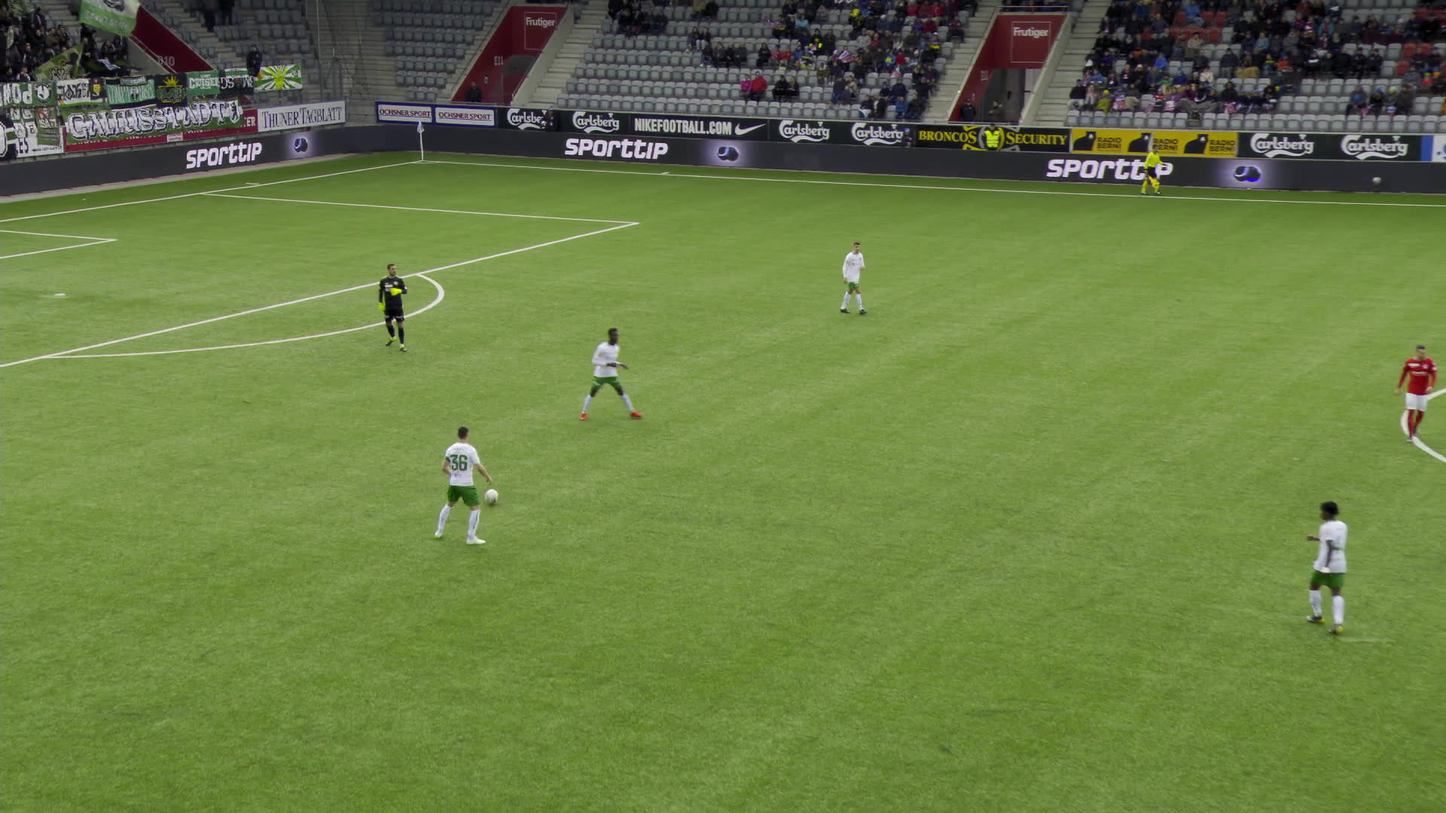ball: (482, 487, 498, 501)
player: (430, 423, 497, 547), (1300, 498, 1353, 639), (576, 327, 645, 425), (1392, 343, 1437, 444), (375, 263, 412, 355), (837, 242, 869, 317)
referee: (1139, 143, 1170, 198)
